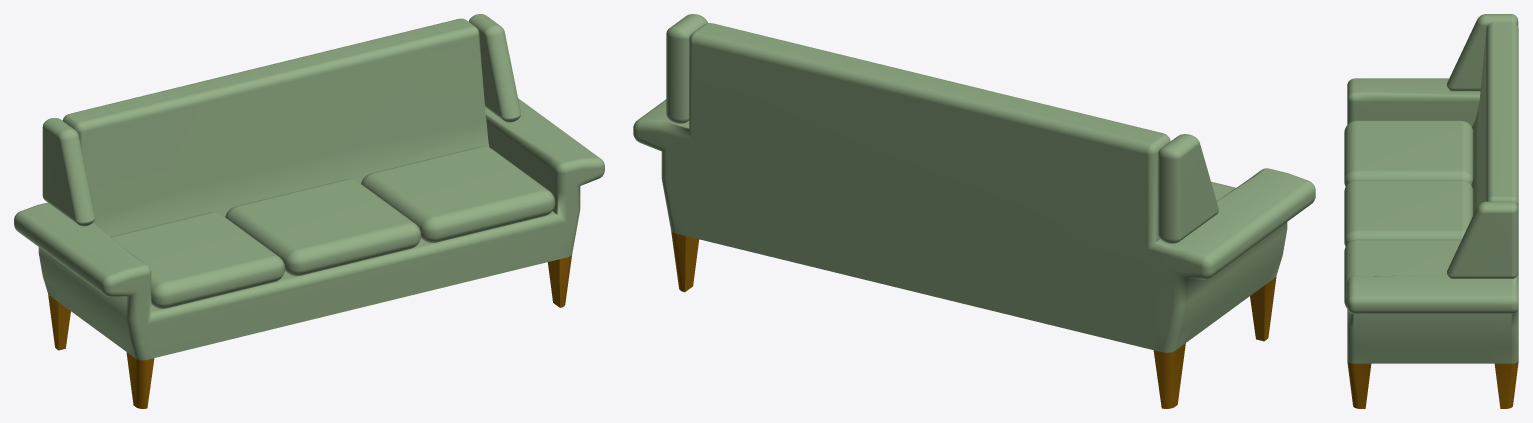
Rendered from Couchwithcolor.fbx.
3 views of the same model, side by side, from view 1: azimuth 30°, elevation 25°; view 2: azimuth 150°, elevation 25°; view 3: azimuth 270°, elevation 25° (orthographic). The views are drawn at different scales.
Parts seen in each view (by area): view 1: pCube16, pCube20, pCube21, pCube19, pCube18, pCube22; view 2: pCube16, pCube18, pCube22; view 3: pCube16, pCube19, pCube20, pCube22, pCube21, pCube18.
Part boxes in pixels (box(x1,y1,x2,y2)): pCube16: box(14, 18, 604, 408); pCube20: box(225, 179, 421, 276); pCube21: box(361, 146, 555, 242); pCube19: box(110, 212, 285, 308); pCube18: box(42, 118, 95, 226); pCube22: box(469, 14, 520, 122); pCube16: box(633, 23, 1315, 408); pCube18: box(1158, 134, 1218, 243); pCube22: box(666, 14, 707, 123); pCube16: box(1347, 22, 1518, 408); pCube19: box(1344, 120, 1473, 186); pCube20: box(1344, 180, 1473, 246); pCube22: box(1447, 201, 1518, 278); pCube21: box(1344, 239, 1461, 308); pCube18: box(1447, 14, 1518, 91).
Size of the model in its own units: 31.04 by 13.43 by 10.35.
